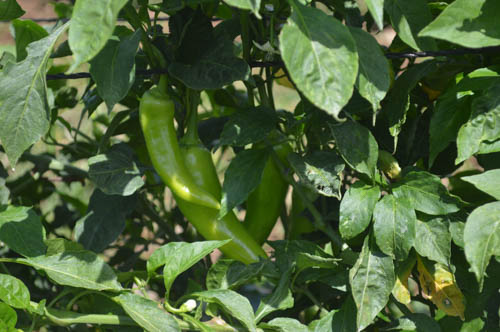ChiliPepper: (176, 149, 262, 265), (138, 94, 220, 214), (245, 142, 291, 247)
